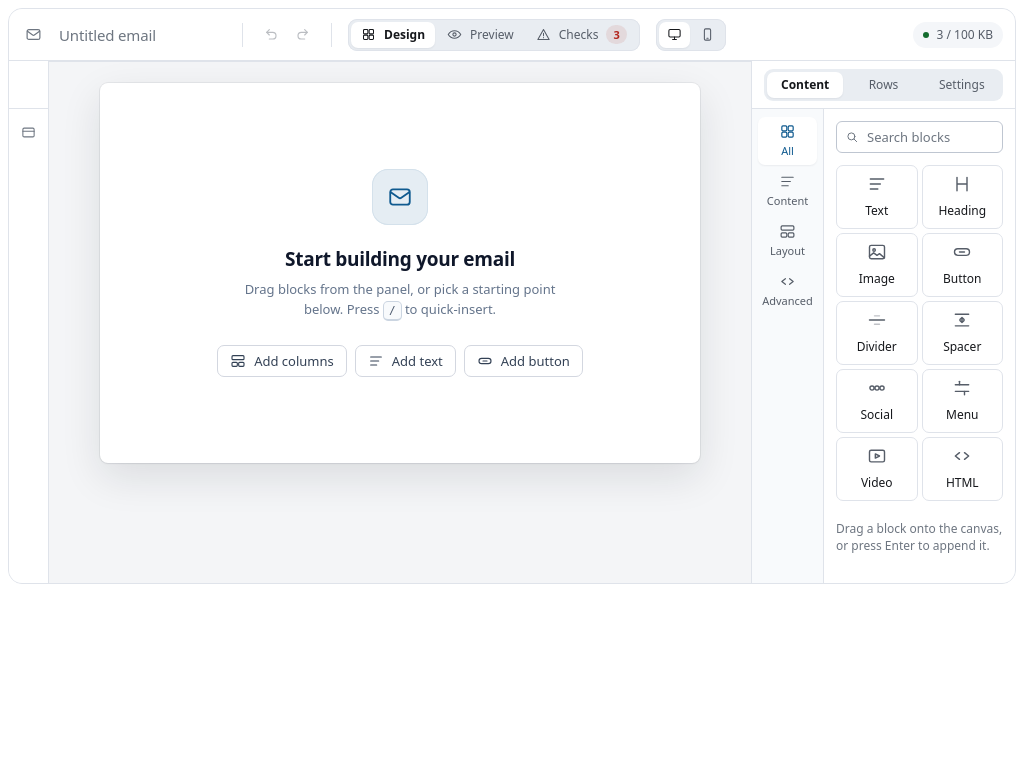
Test: quick insert › says so when nothing matches
Press / in the element with class "mk-root"
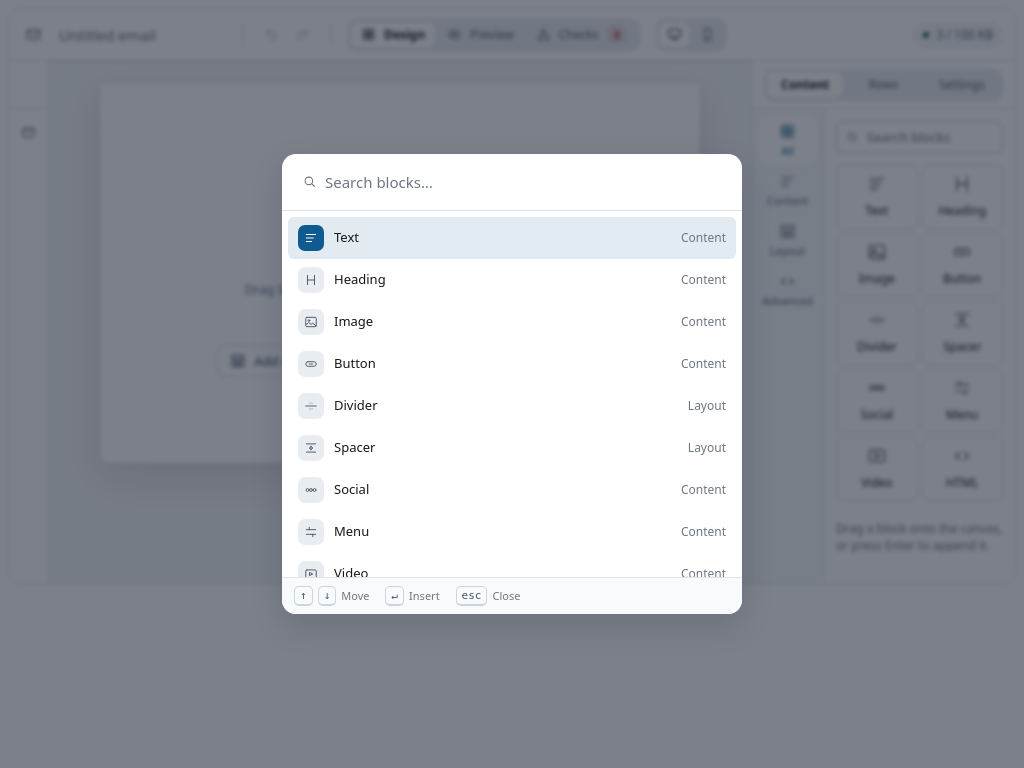
Type "zzzz" into the field labelled "Search blocks…".
click(512, 182); type("zzzz")  # box 292,164 -> 732,200
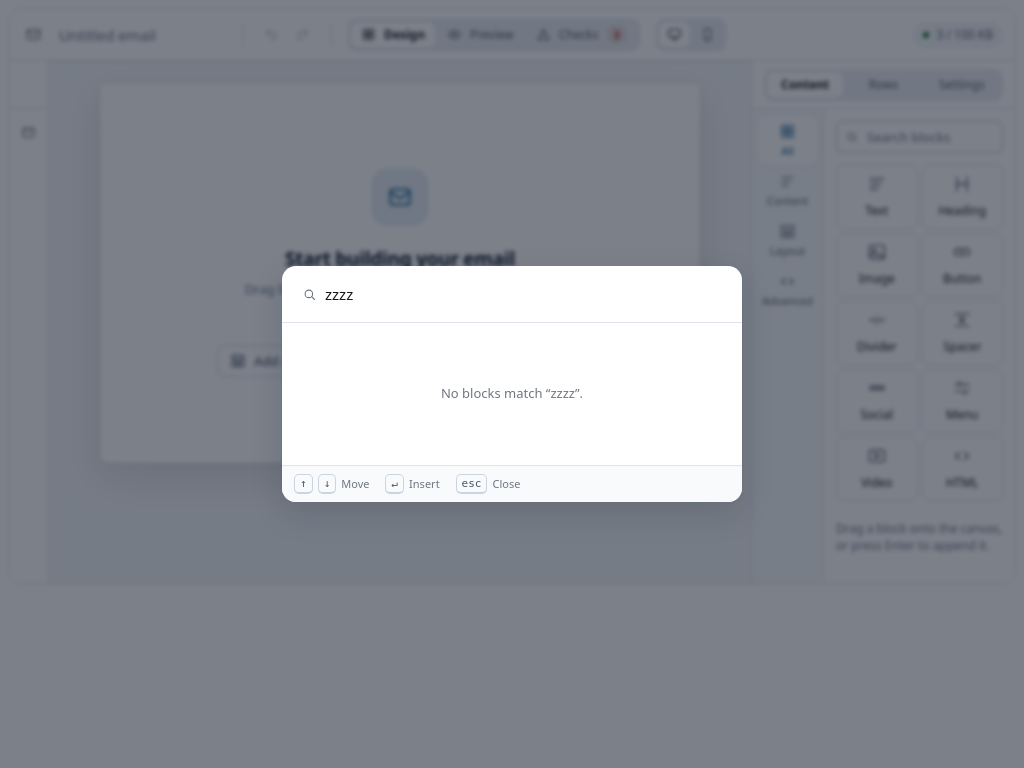
Now no options are shown
Now the text "No blocks match “zzzz”." is shown, box 441,384 -> 583,402
